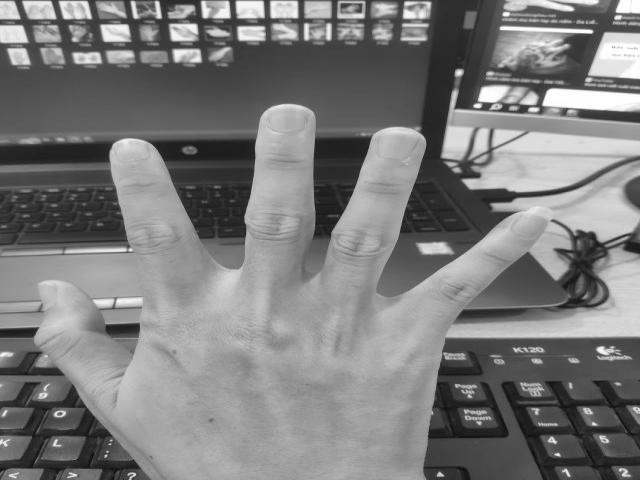not-gloved: (36, 100, 549, 480)
